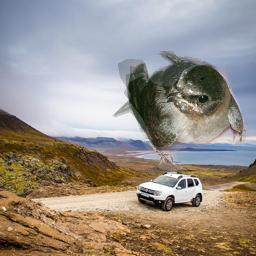Swallow: (110, 51, 246, 173)
